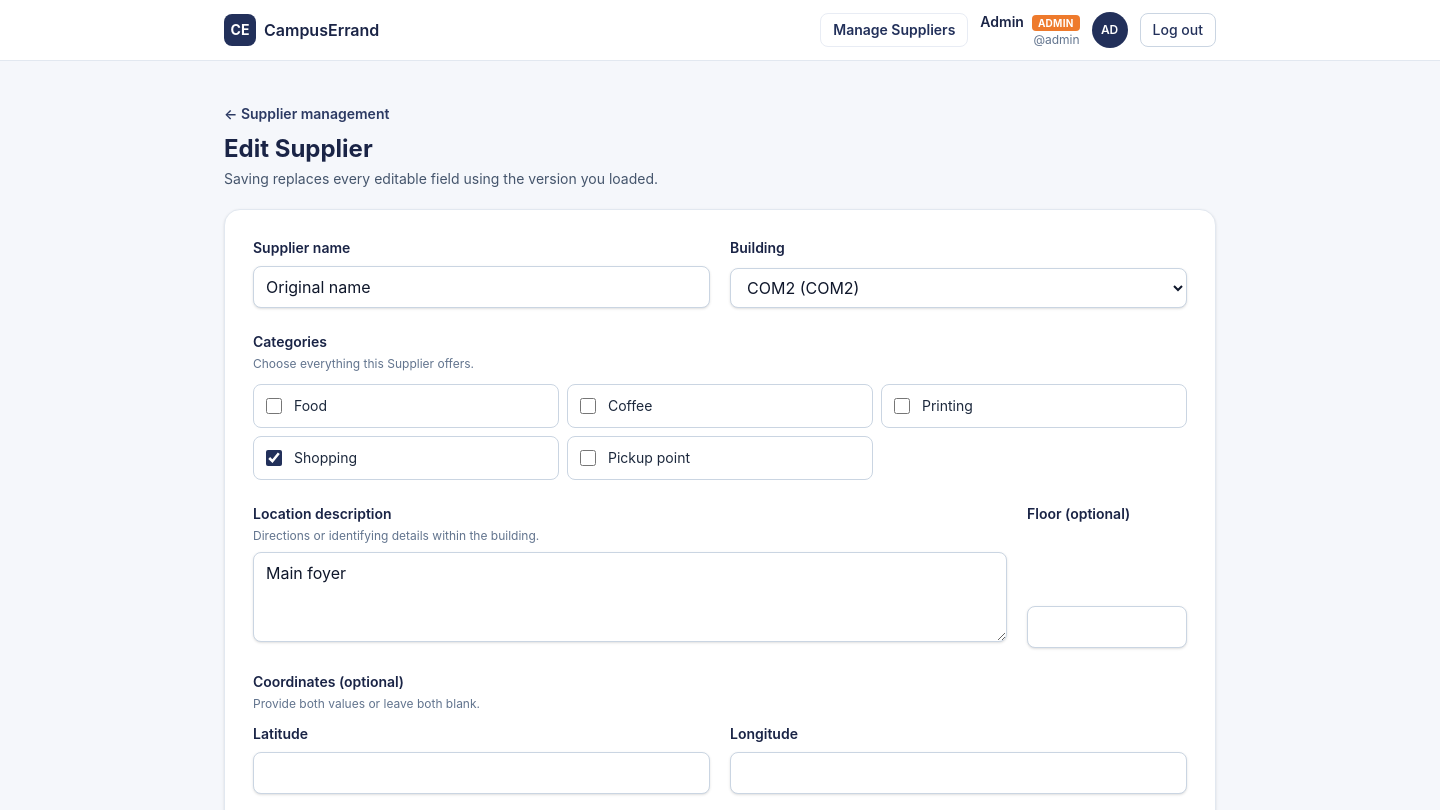
Test: SupplierFormPage › preserves the draft on 412 and reloads latest values only when requested
This screenshot has width=1440, height=810.
Replace the text in the field labelled "Supplier name" with "My unsaved draft" at coordinates (482, 287), box top-left (253, 266), bottom-right (710, 308)
(page scrolled)
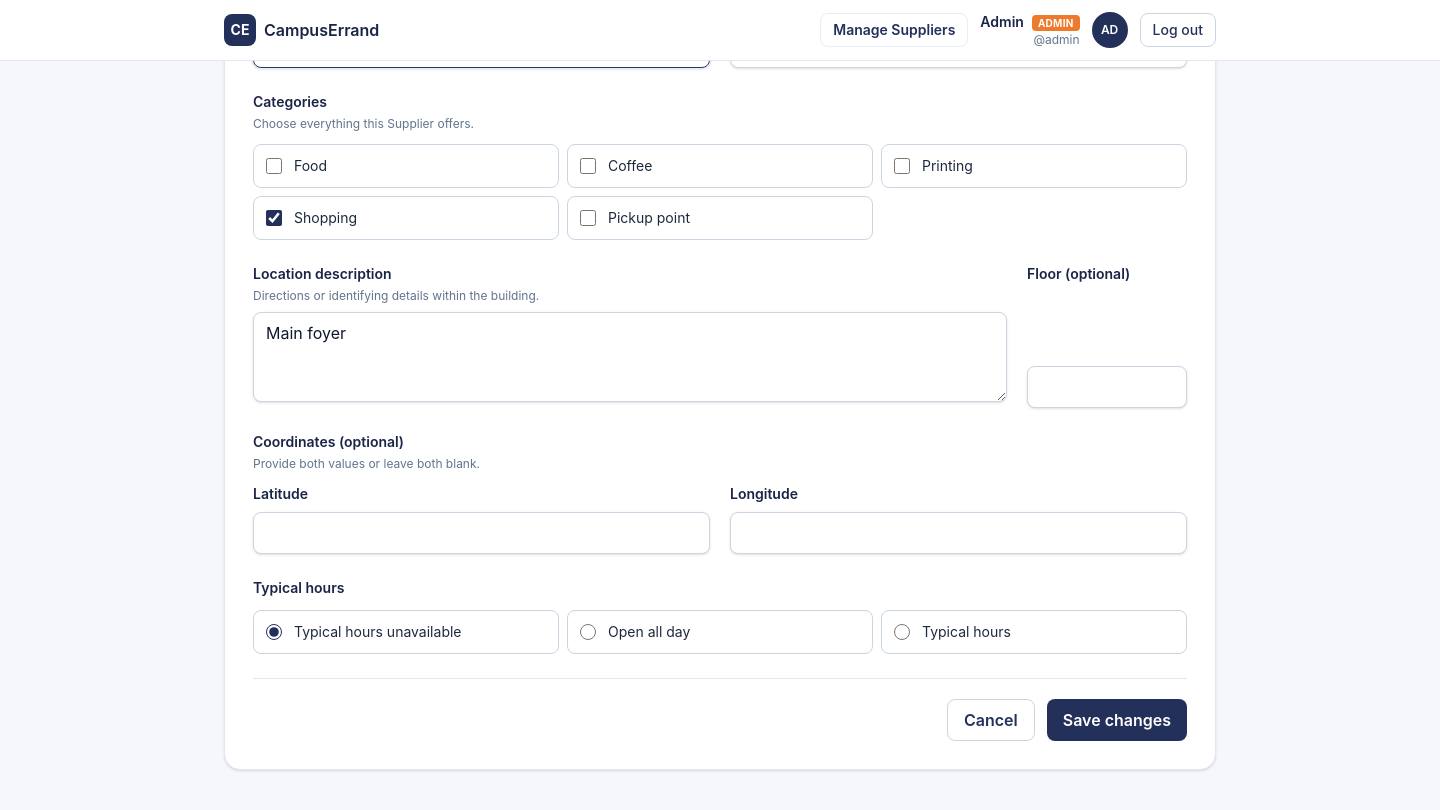
Click the button "Save changes".
click(1117, 720)  # box top-left (1047, 699), bottom-right (1187, 741)
(page scrolled)
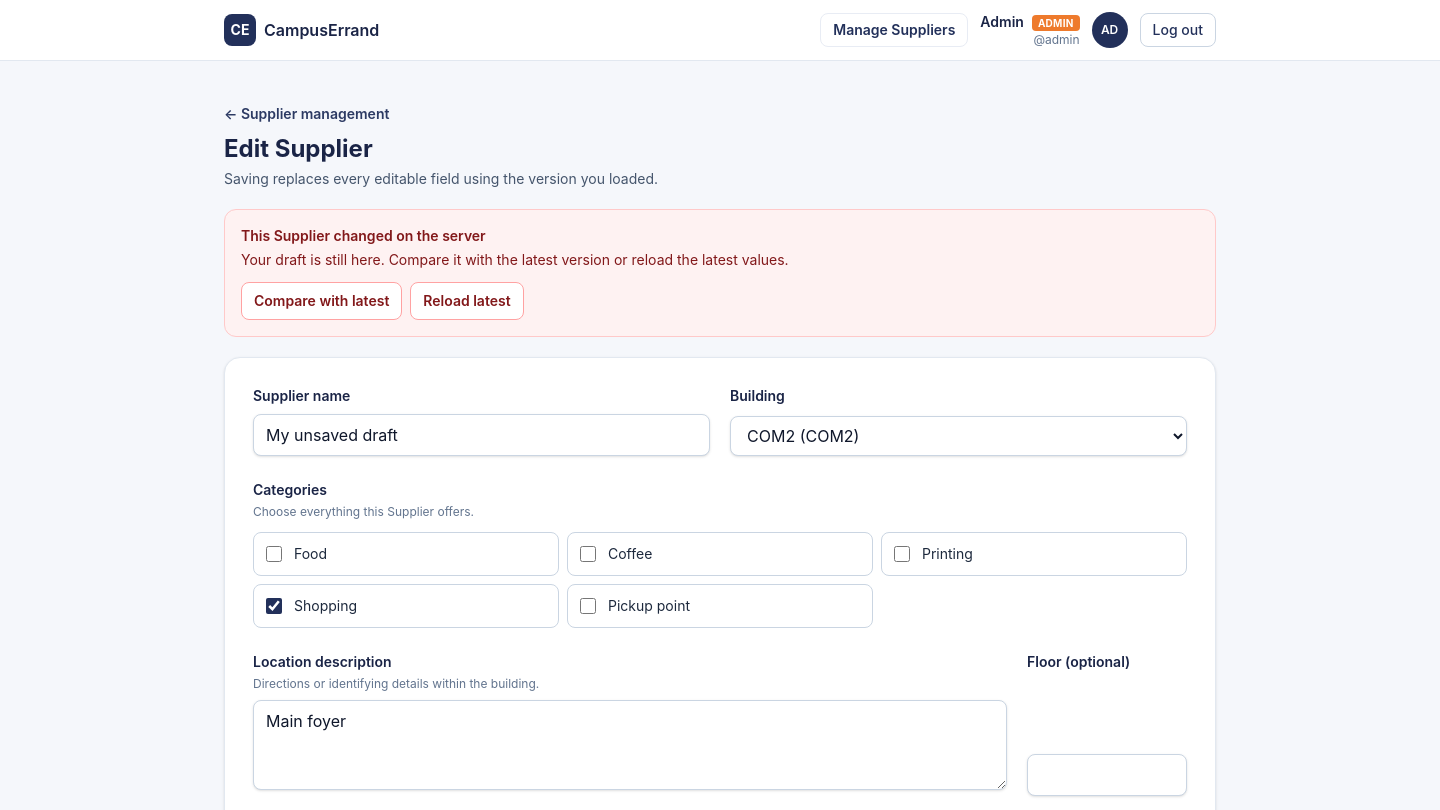
Now the text "This Supplier changed on the server" is shown, box top-left (241, 227), bottom-right (486, 244)
Click the button "Compare with latest".
click(322, 301)  # box top-left (241, 282), bottom-right (402, 320)
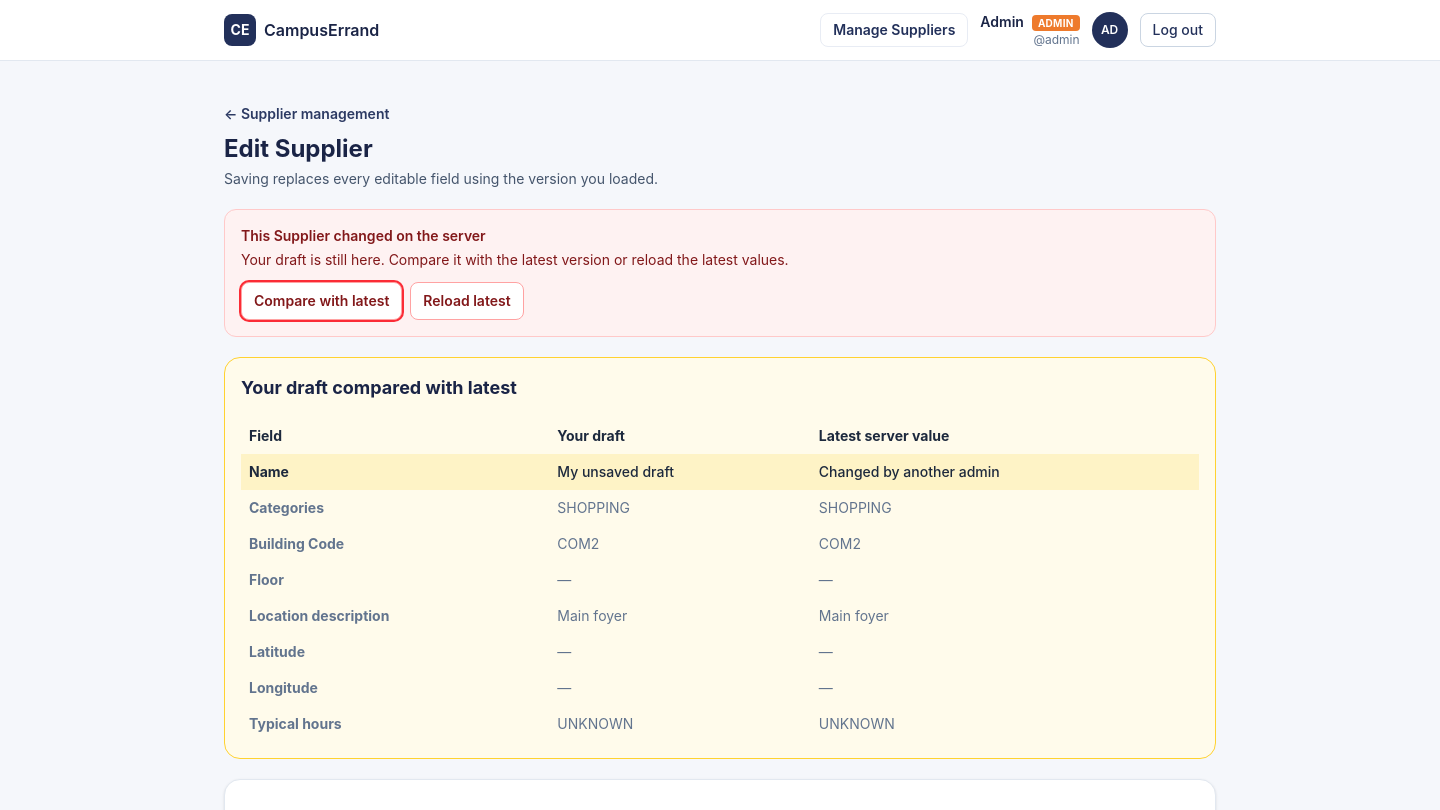
Now the heading "Your draft compared with latest" is shown, box top-left (241, 377), bottom-right (517, 398)
Now the text "Changed by another admin" is shown, box top-left (811, 454), bottom-right (1199, 490)
Click the button "Reload latest".
click(467, 301)  # box top-left (410, 282), bottom-right (524, 320)
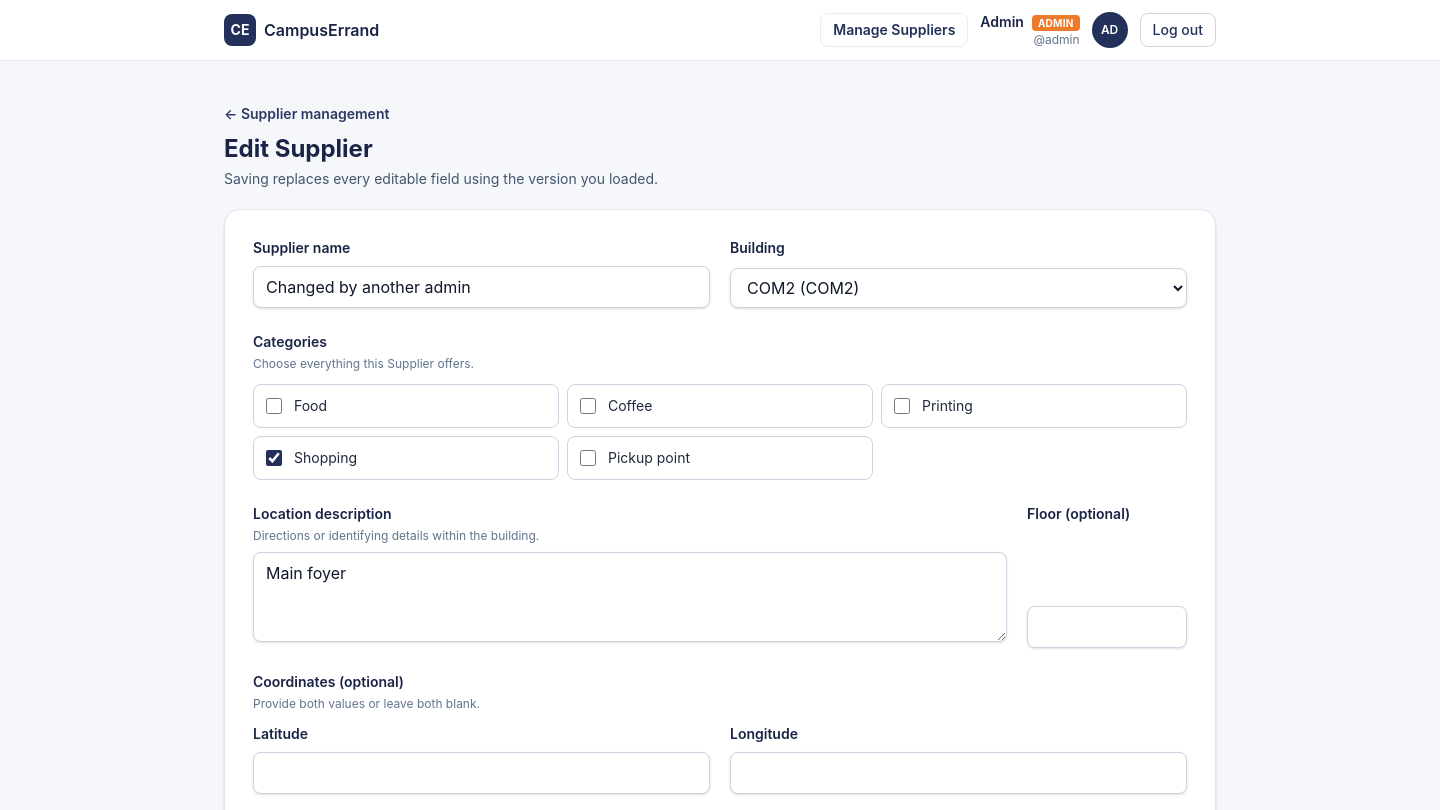
Now the field labelled "Supplier name" holds "Changed by another admin", box top-left (253, 266), bottom-right (710, 308)
